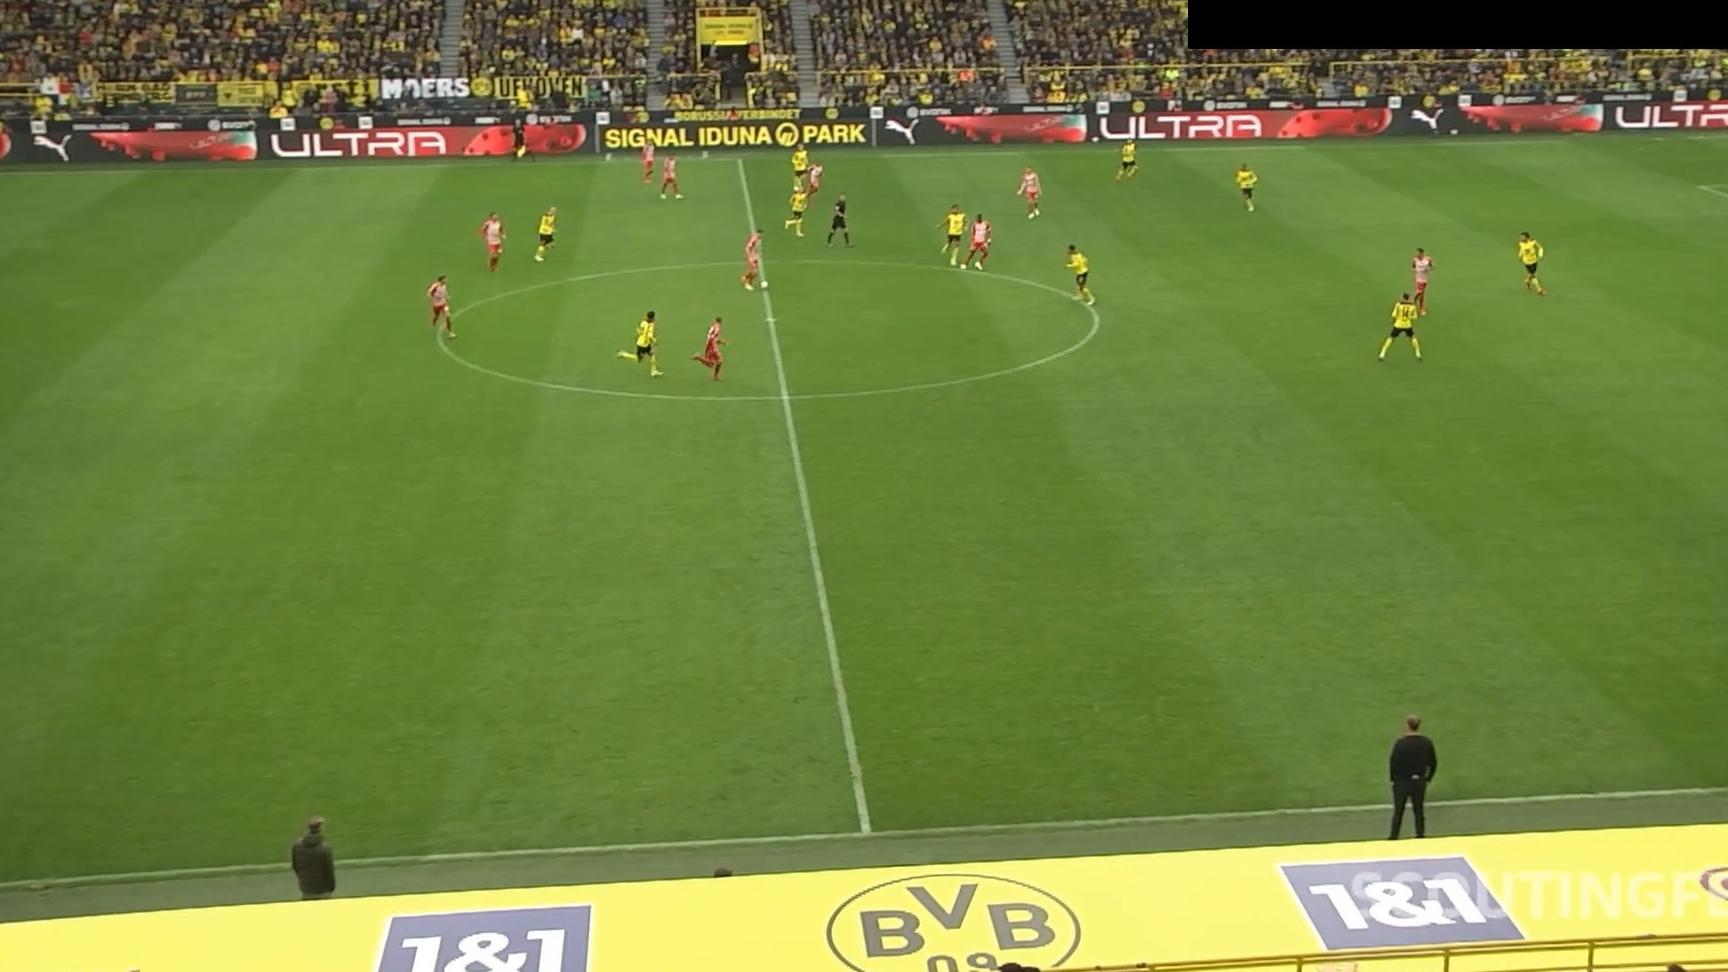ball: (758, 280, 770, 291)
